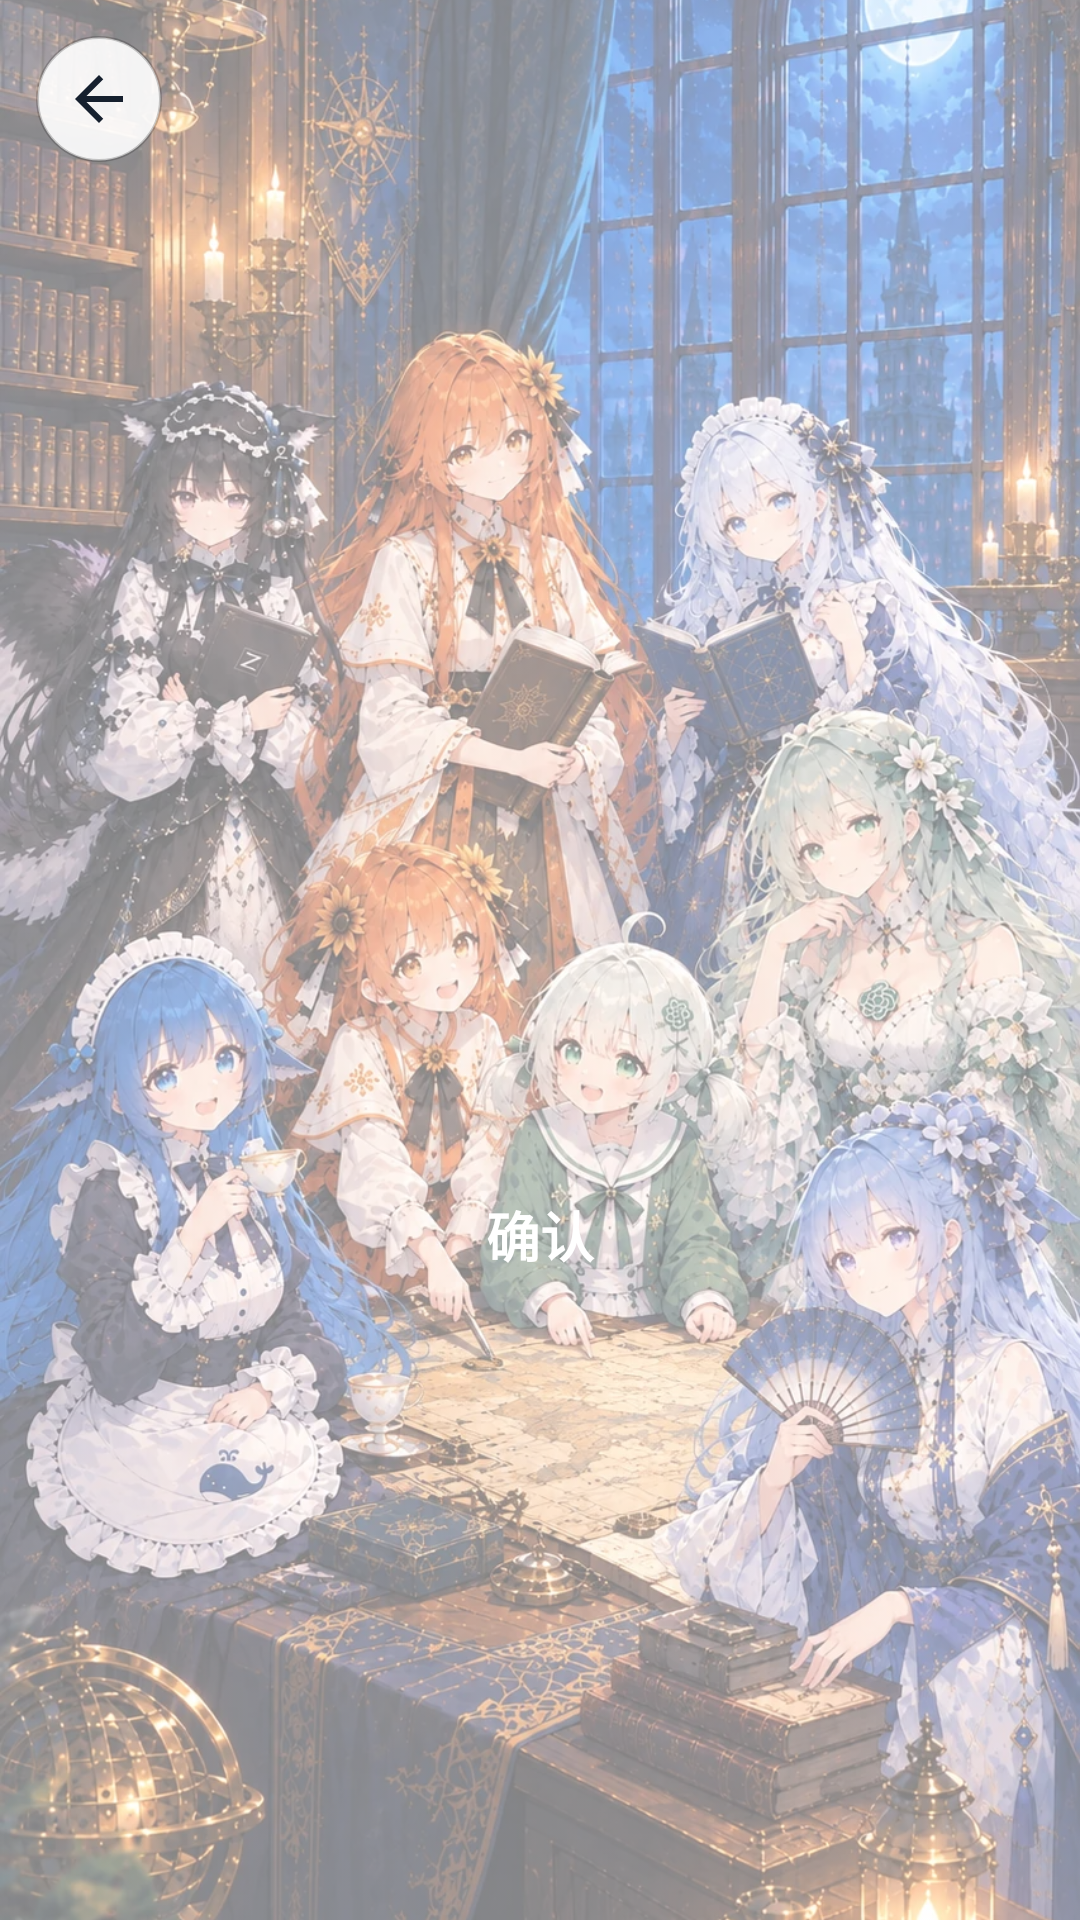

Where to tap for icons on this 1080px x 1920px app screen, as point (x, y):
返回: point (99, 99)
